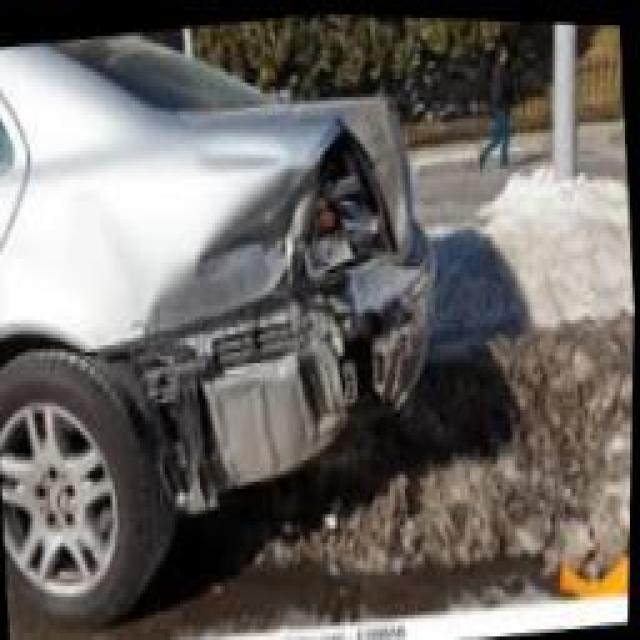Bumper: (119, 218, 441, 493)
Light: (310, 135, 402, 269)
